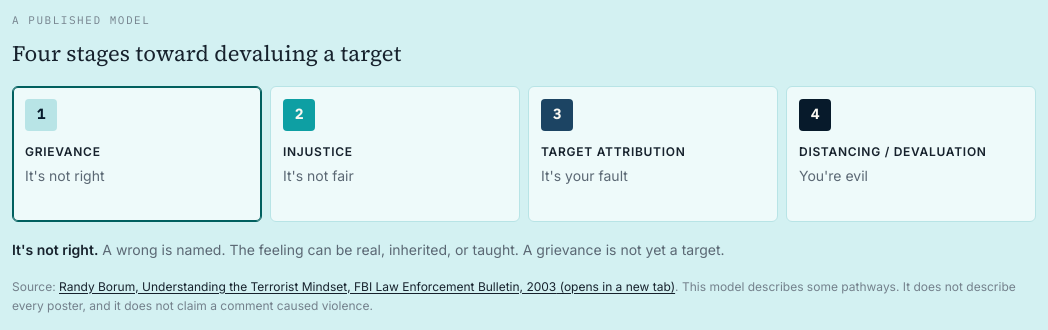
Test case: MindsetStages › walks Borum four stages without claiming a comment caused an attack
The width and height of the screenshot is (1048, 330).
Check: the text "a grievance is not yet a target" is shown, box [102,240,725,258]
Click the button "4 Distancing / devaluation You're evil" at (911, 154), box [786,86,1036,222]
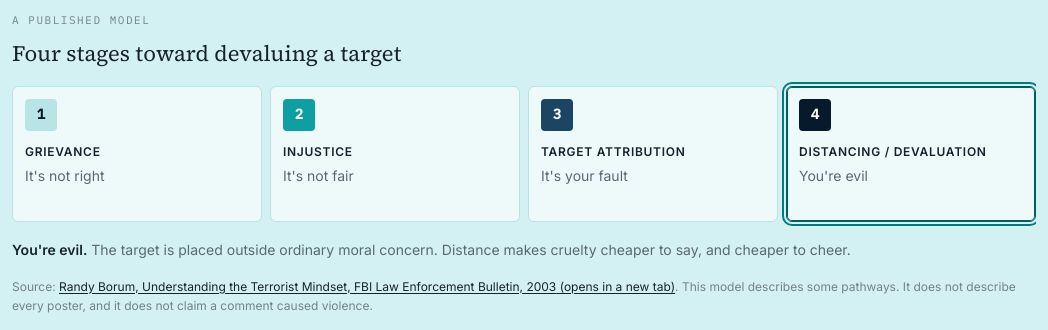
Check: the text "distance makes cruelty cheaper" is shown, box [91,240,851,258]
